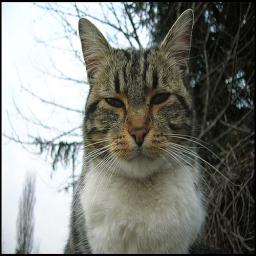catnose: (128, 126, 150, 147)
